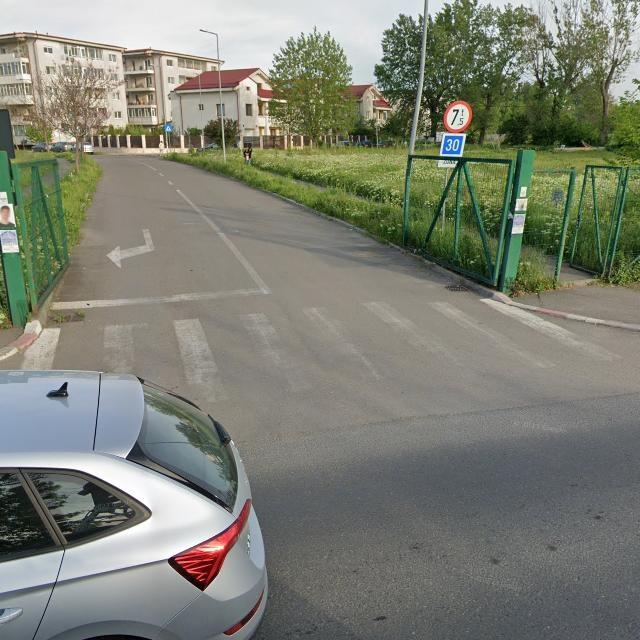info_crosswalk: (164, 124, 173, 133)
